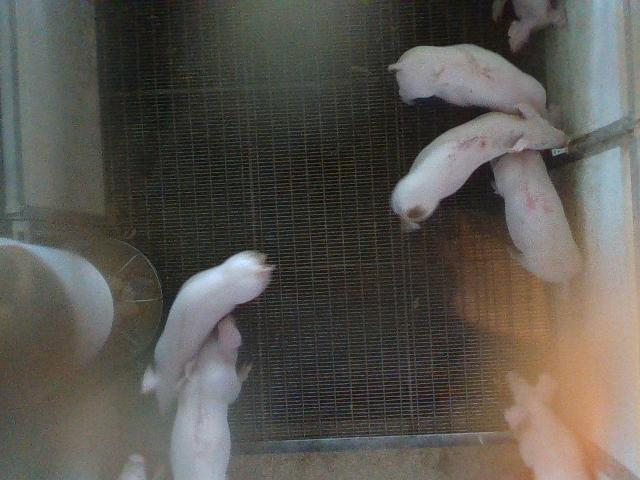pig-3: (171, 315, 251, 479)
pig-4: (491, 150, 582, 282)
pig-5: (392, 104, 565, 230)
